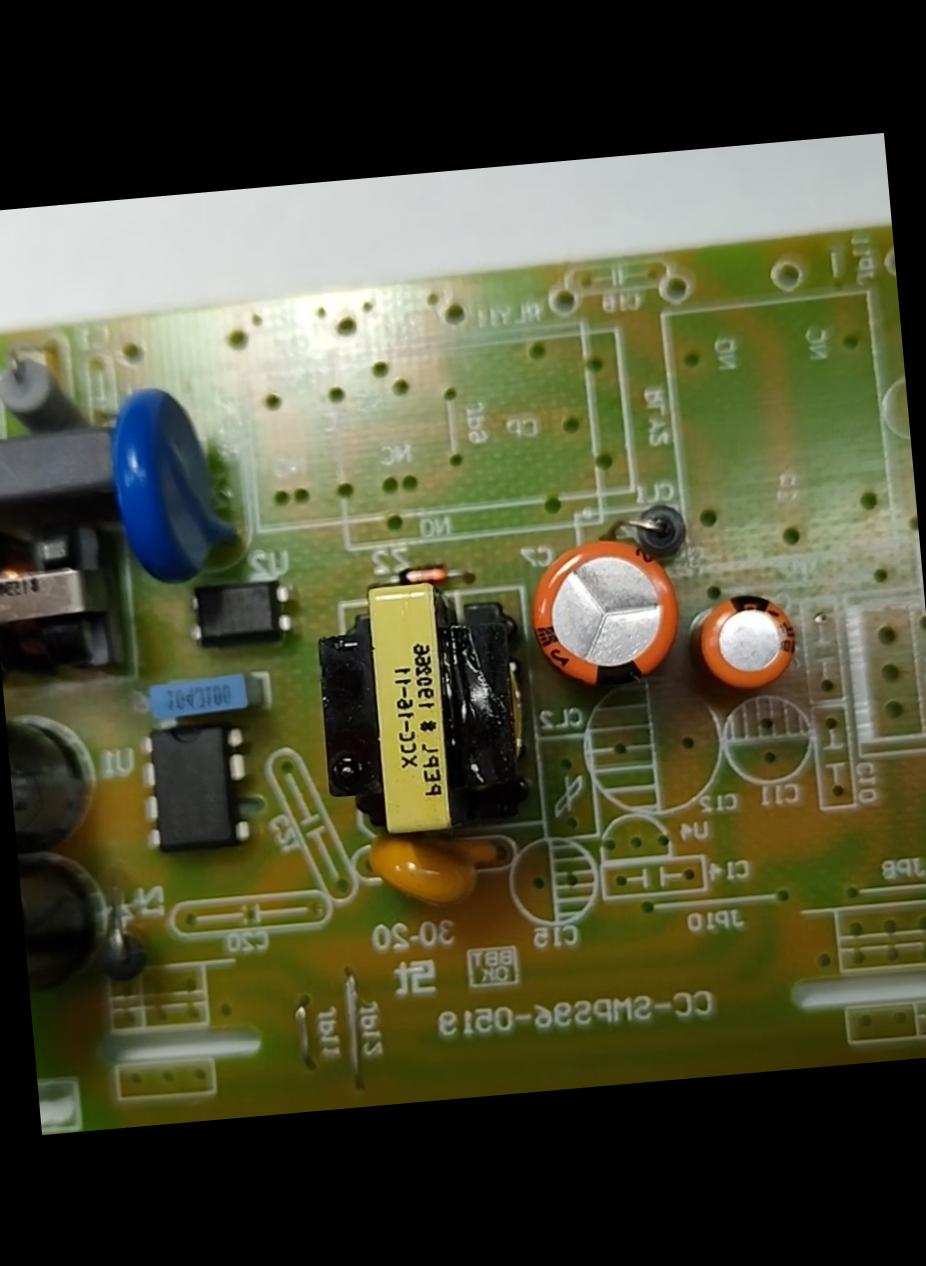Cap1: (508, 523, 702, 700)
Cap2: (684, 575, 818, 711)
Cap3: (4, 689, 110, 866)
Cap4: (17, 840, 116, 1005)
MOSFET: (130, 700, 268, 871)
Mov: (100, 373, 244, 599)
Resistor: (0, 337, 90, 446)
Transformer: (295, 562, 561, 858), (0, 498, 146, 703)
